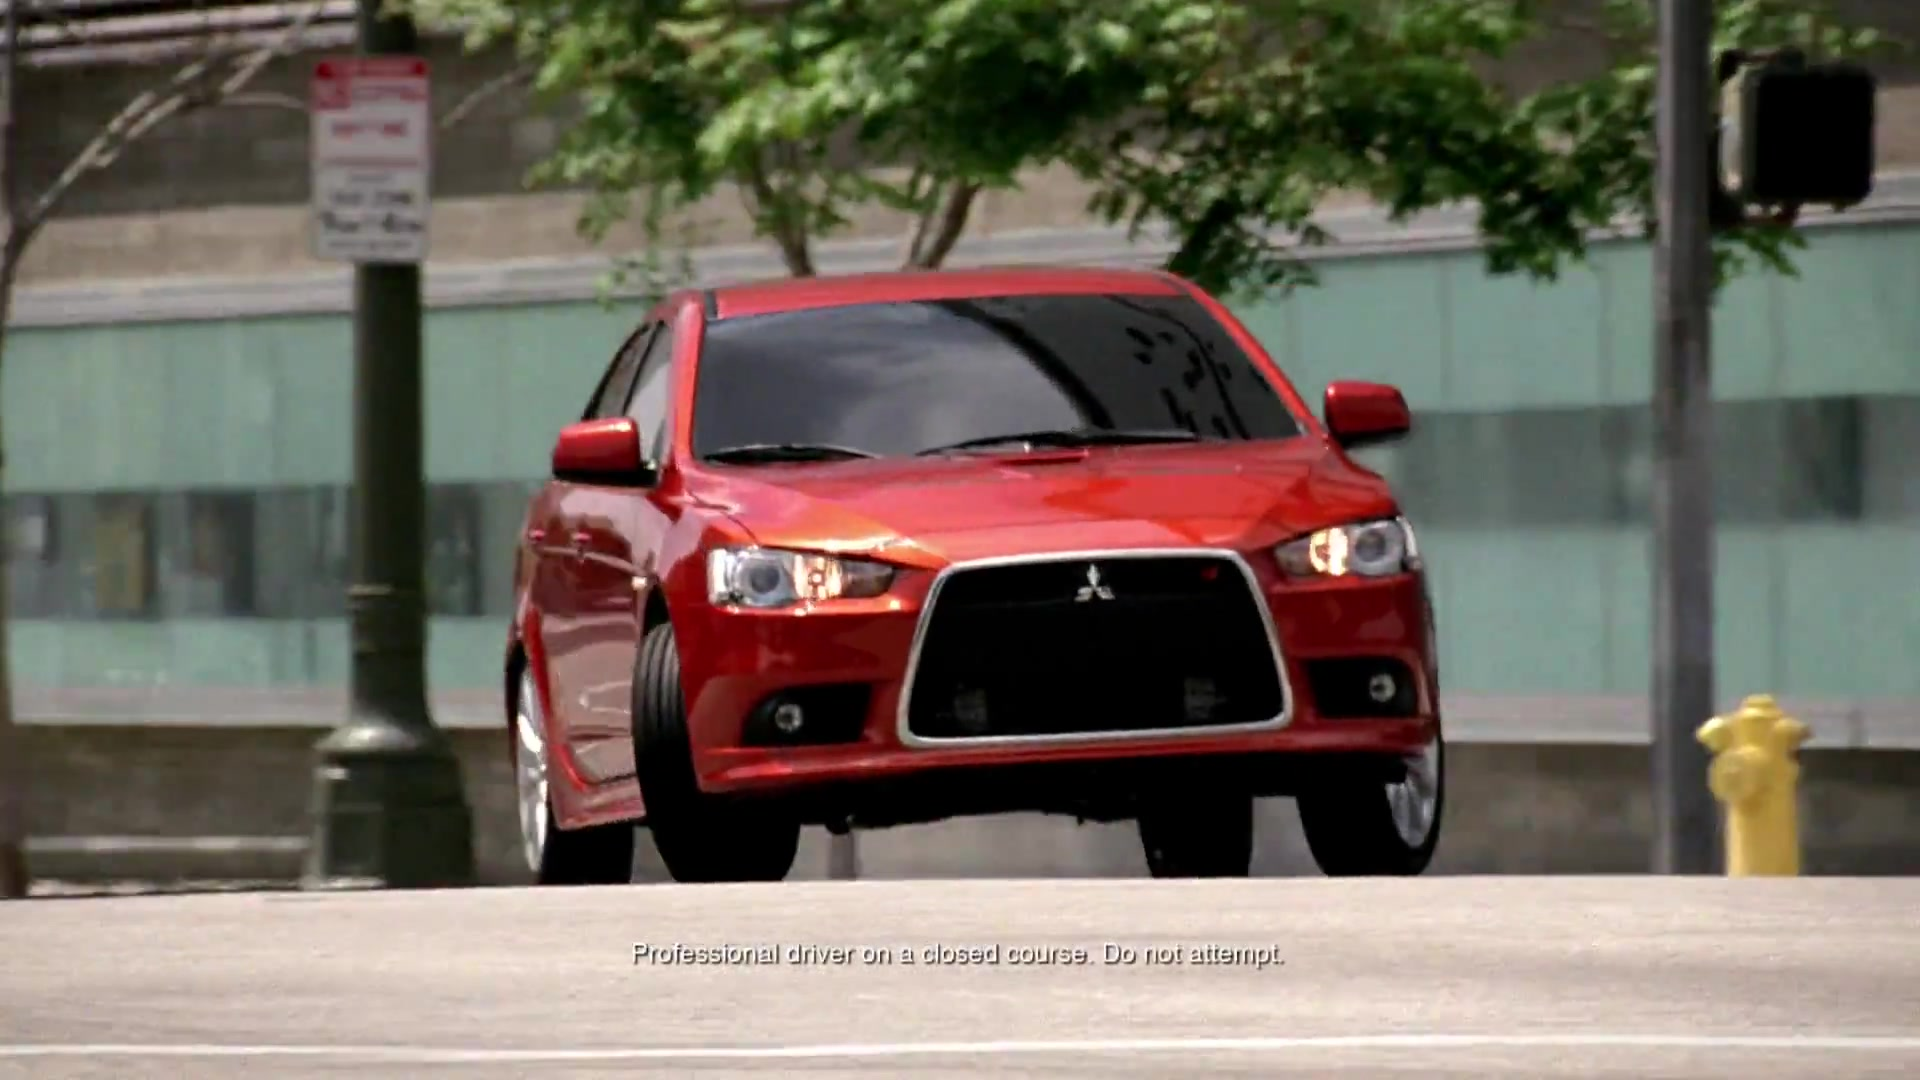car: (504, 276, 1451, 878)
